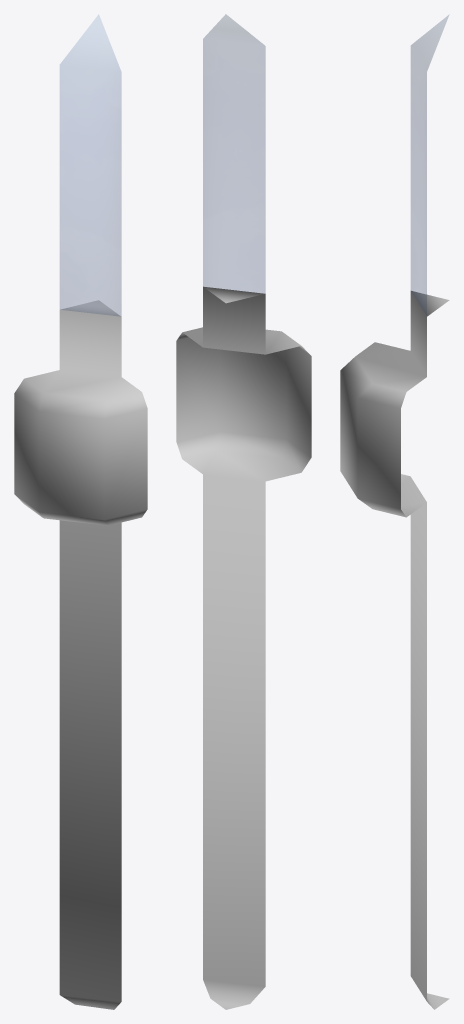
The model's file is Vitrine_modulaire_7_LP.fbx.
3 renders of one model, left to right at view 1: azimuth 30°, elevation 25°; view 2: azimuth 210°, elevation 25°; view 3: azimuth 330°, elevation 25°, orthographic.
Parts seen in each view (by area): view 1: Vitrine modulaire 7; view 2: Vitrine modulaire 7; view 3: Vitrine modulaire 7.
Boxes of the visible parts, x1=… form: Vitrine modulaire 7: x1=14, y1=14, x2=147, y2=1009; Vitrine modulaire 7: x1=176, y1=14, x2=311, y2=1009; Vitrine modulaire 7: x1=340, y1=15, x2=449, y2=1009.
Size of the model in its own units: 5.4 by 60 by 5.4.
